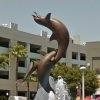Statue: (24, 7, 73, 87)
